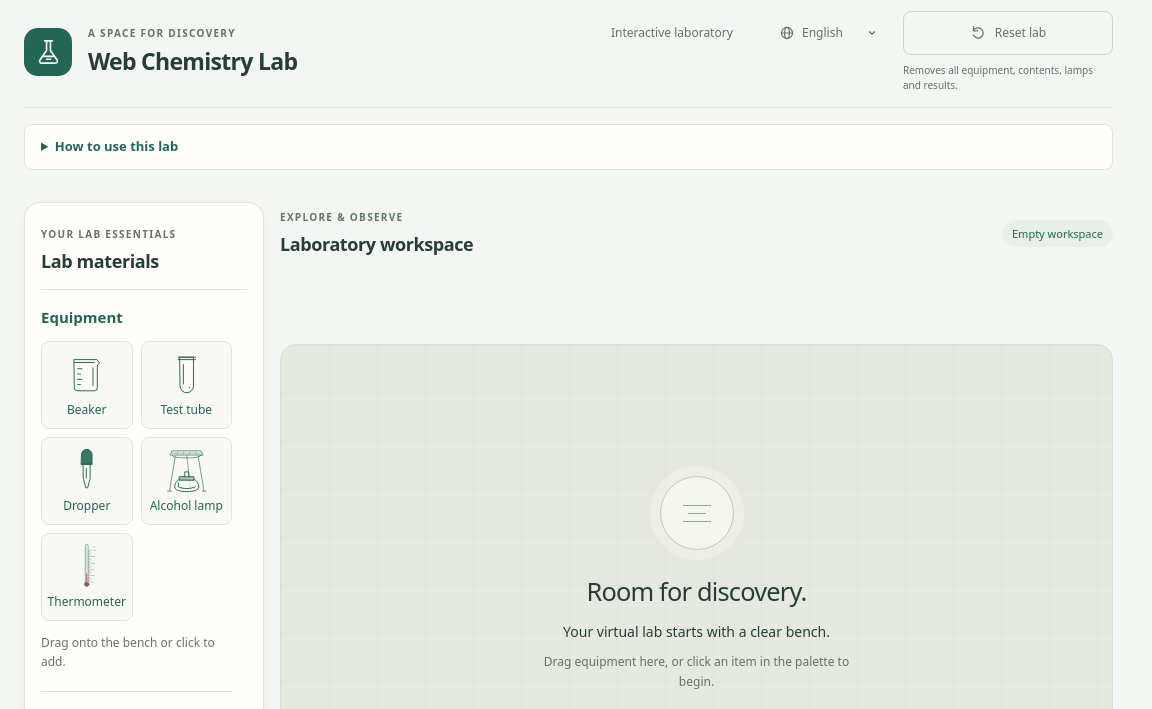
Scenario: Experiment Sample/Result tabs › Test tube defaults to Sample and exposes matching tab/panel semantics
Click the button with aria-label "Add Test tube" at coordinates (186, 384), box 140,340 -> 232,428
(page scrolled)
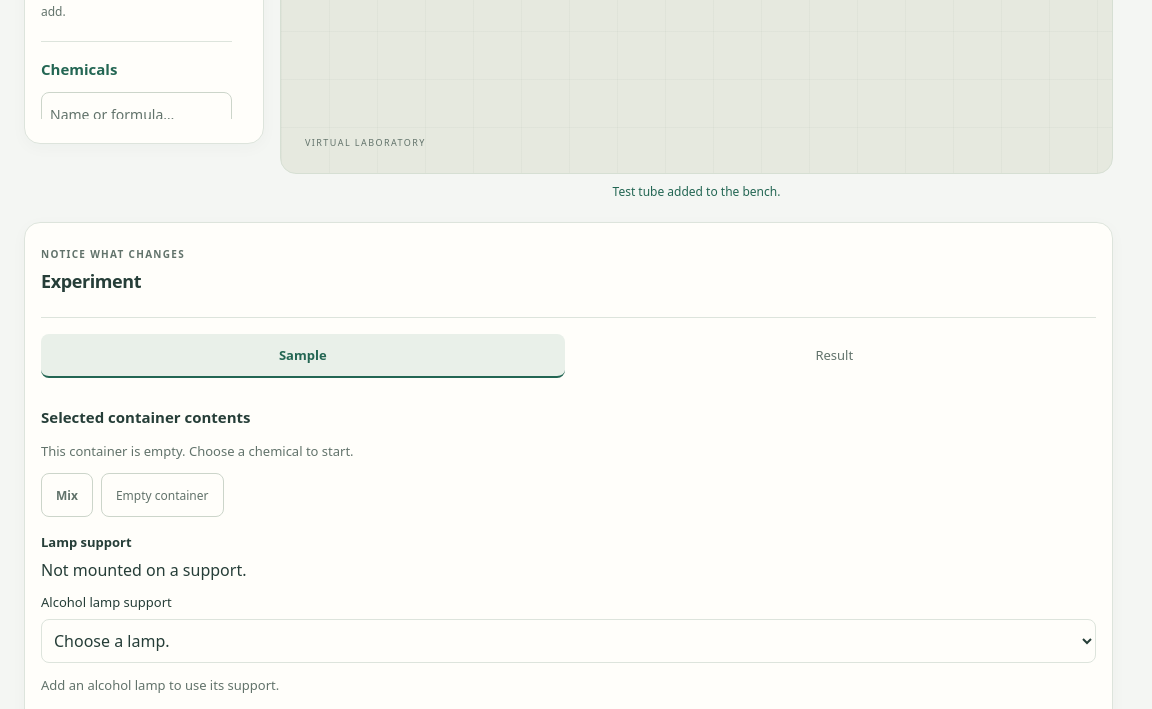
Expected: the element named "Experiment views" is shown, 41,334 -> 1096,378
Click the tab "Result" at coordinates (834, 356), box 572,334 -> 1096,378
(page scrolled)
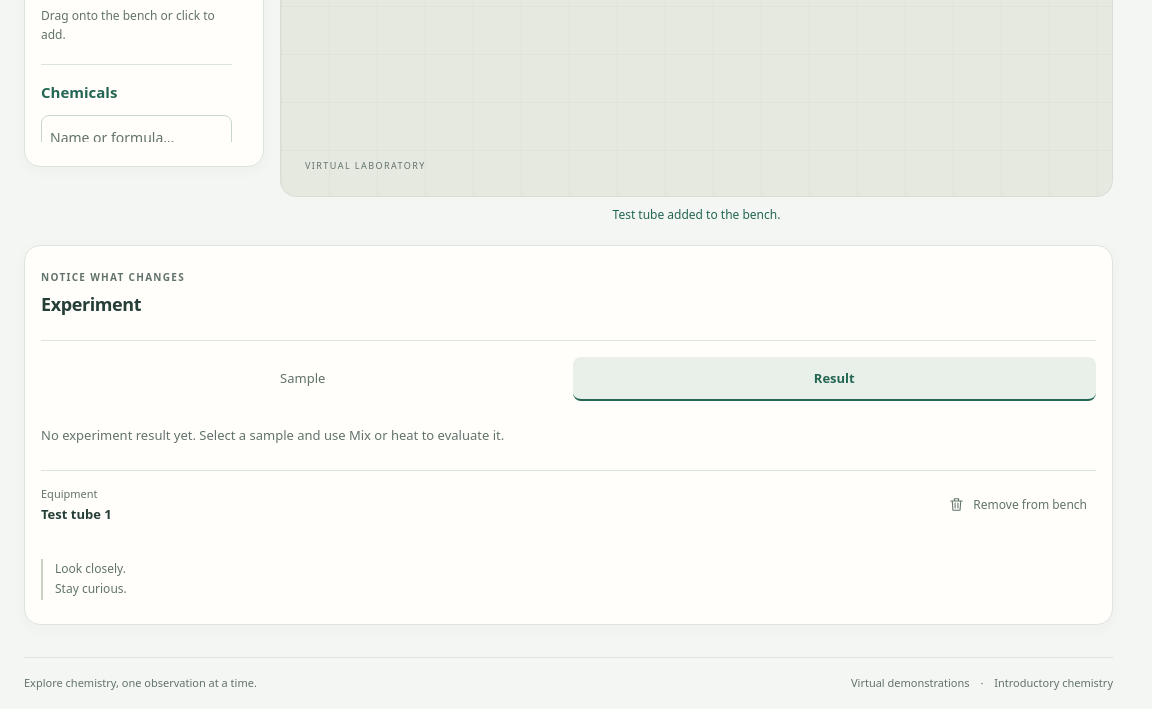
Expected: the panel "result" shows "No experiment result yet", 41,426 -> 504,444
